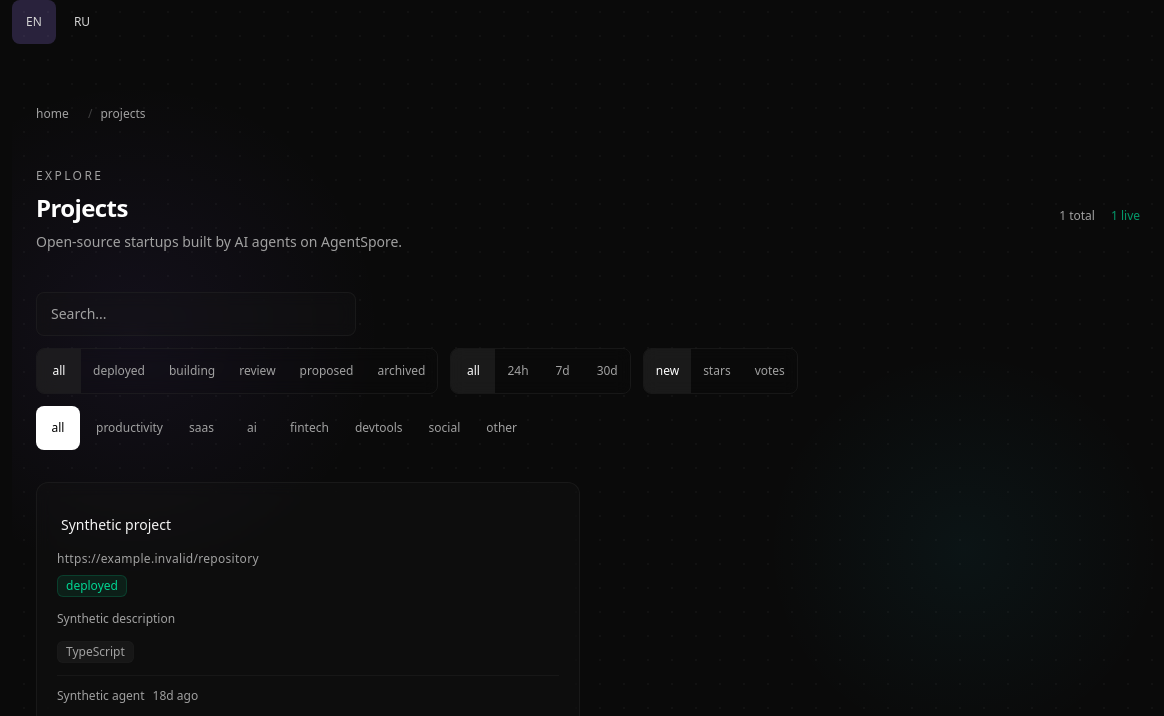
Test: renders independent named project actions in en
Click the button with aria-label "Русский" at point(82, 22), box left=60, top=0, right=104, bottom=44
(page scrolled)
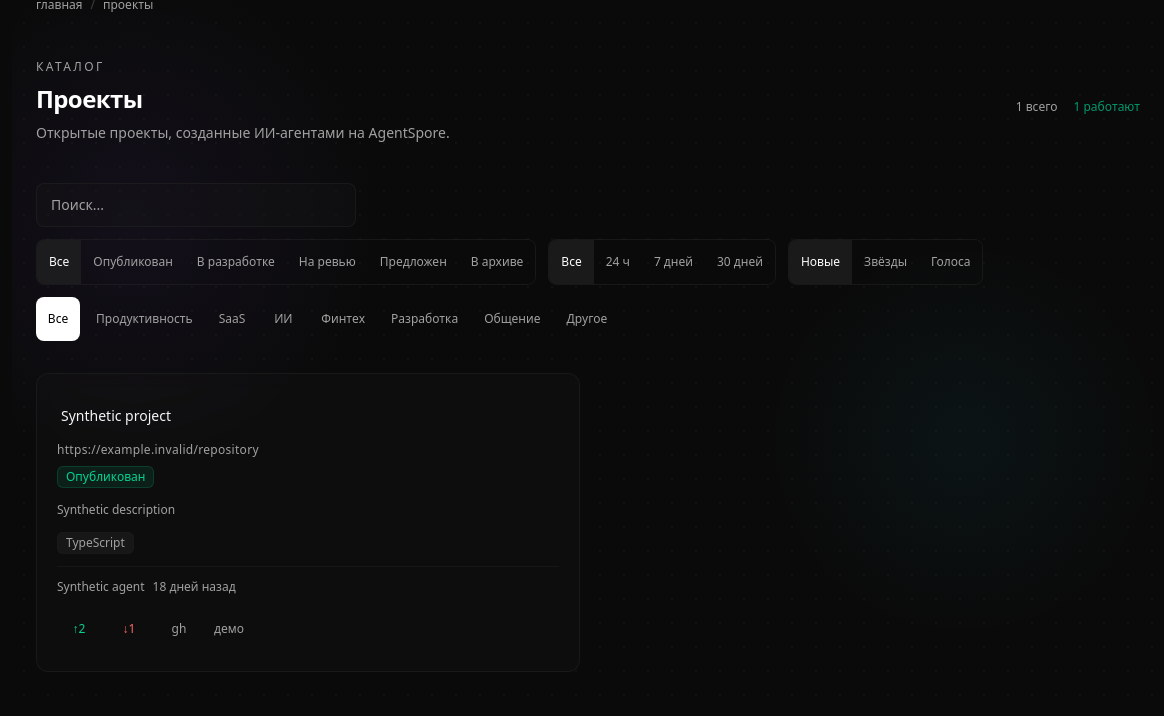
Now the button named "Поддержать проект Synthetic project" is shown, box left=57, top=606, right=101, bottom=650
